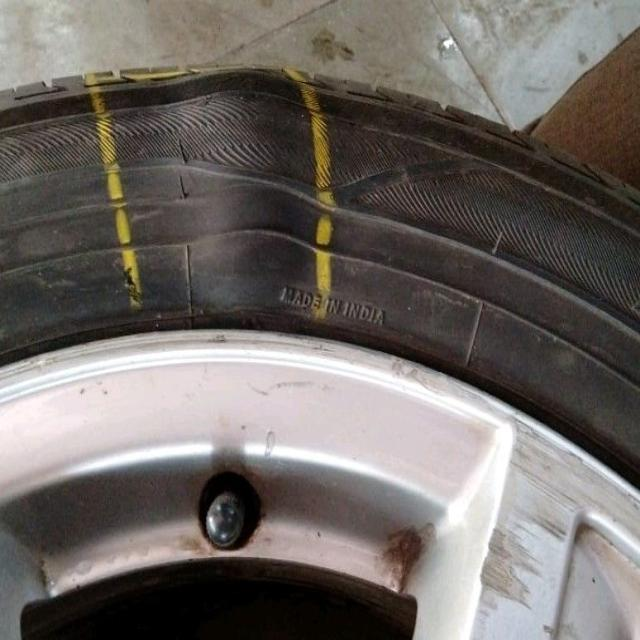Bulge: (166, 54, 313, 338)
